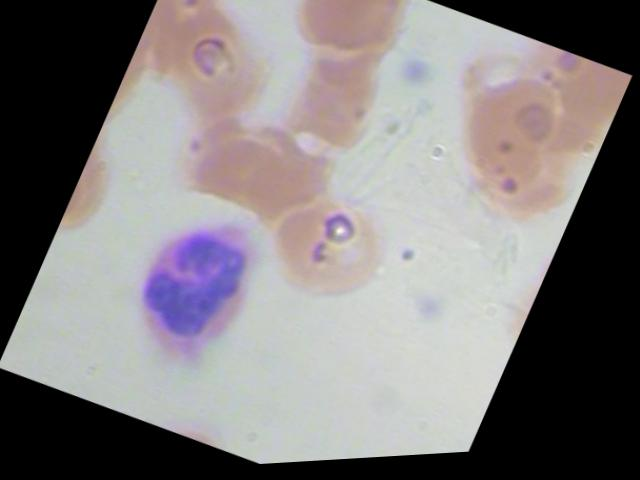Platelets: (391, 49, 440, 102), (405, 287, 454, 339)
Red Blood Cells: (423, 52, 584, 210), (247, 181, 407, 333), (264, 41, 396, 174), (149, 0, 281, 123), (271, 0, 425, 88)
White Blood Cells: (104, 184, 282, 394)
